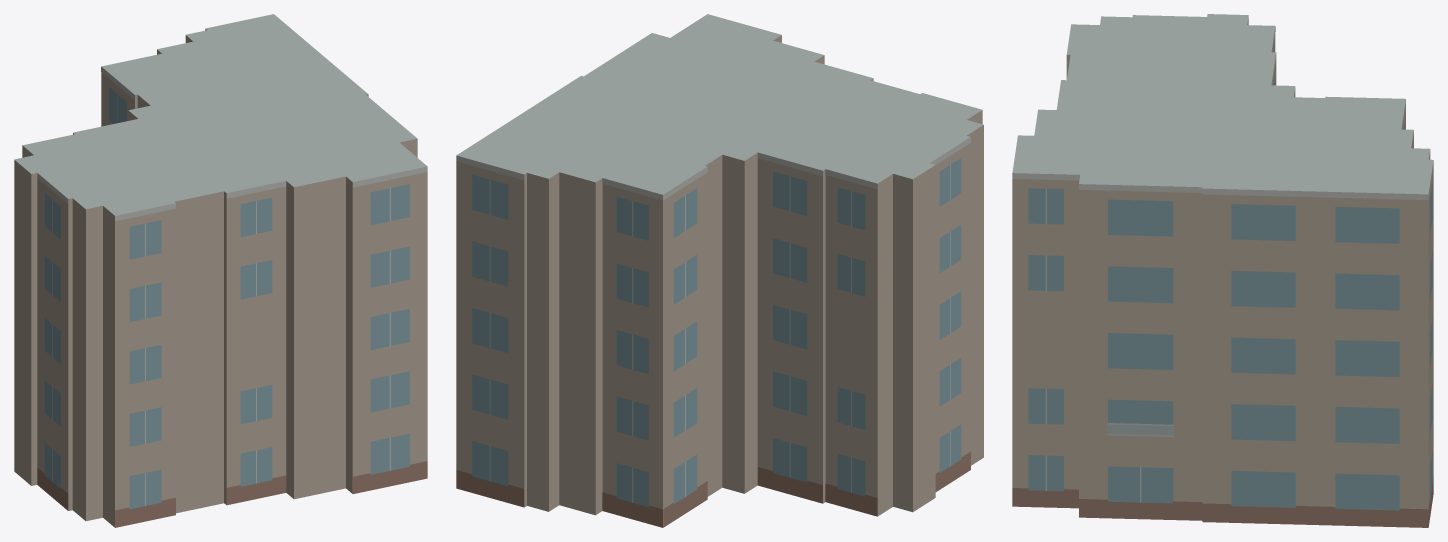
Rendered from survey-upis-32492364.glb.
The picture shows the model from 3 angles, left to right: view 1: azimuth 30°, elevation 25°; view 2: azimuth 150°, elevation 25°; view 3: azimuth 270°, elevation 25°; orthographic projection. The views are drawn at different scales.
Visible parts, largest first — view 1: survey-upis-32492364.tmp; view 2: survey-upis-32492364.tmp; view 3: survey-upis-32492364.tmp.
Boxes of the visible parts, bbox=[...] form: survey-upis-32492364.tmp: bbox=[14, 14, 427, 527]; survey-upis-32492364.tmp: bbox=[456, 14, 983, 527]; survey-upis-32492364.tmp: bbox=[1012, 14, 1433, 527].
Bounding box in the file's own units: 16.31 × 14.05 × 16.09.
